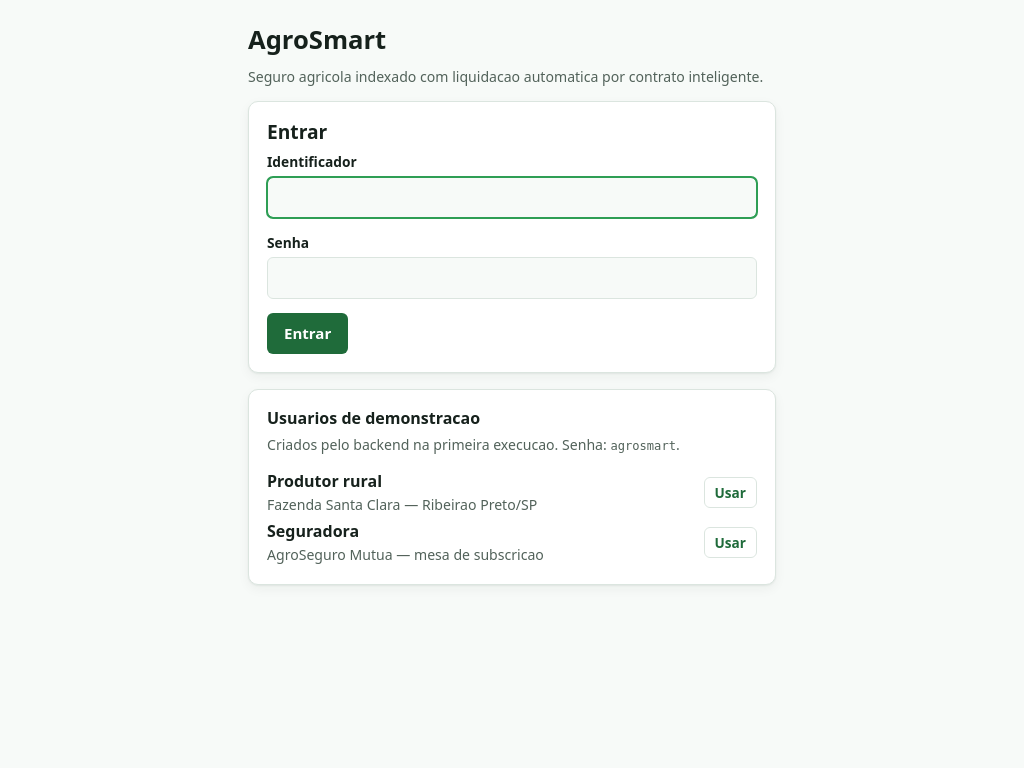
it: autenticacao e perfis › tela comum guardada antes do login continua valendo
Type "produtor" into the field labelled "Identificador" at (512, 197), box [267, 177, 757, 218]
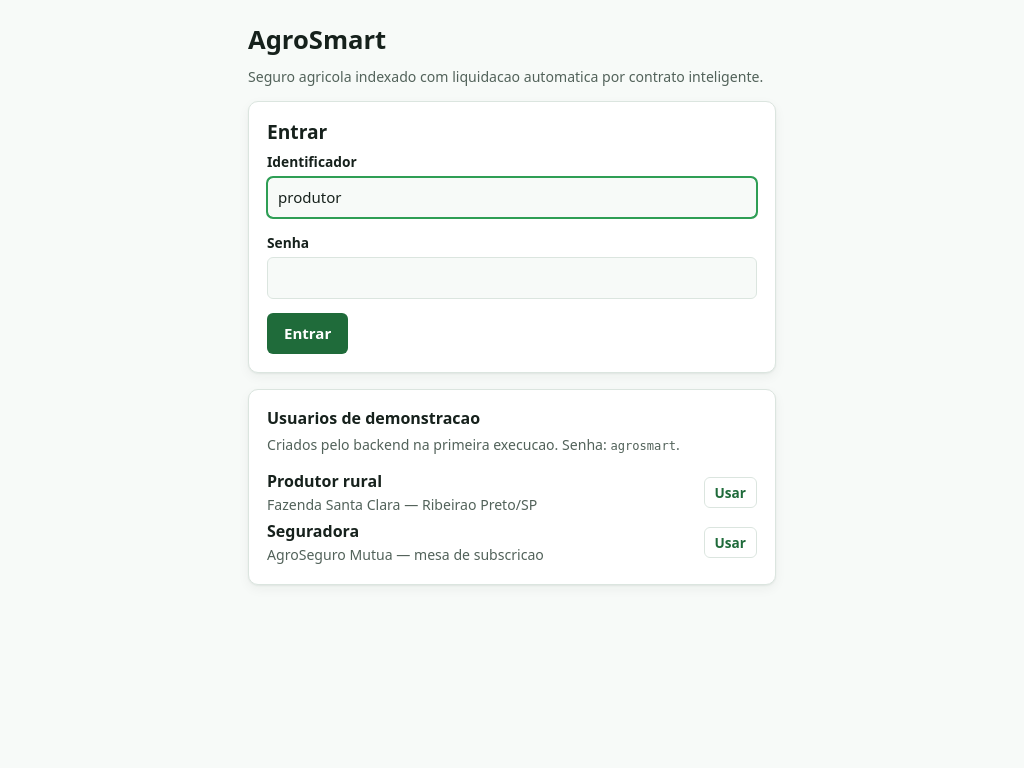
Type "agrosmart" into the password field labelled "Senha" at (512, 278), box [267, 257, 757, 299]
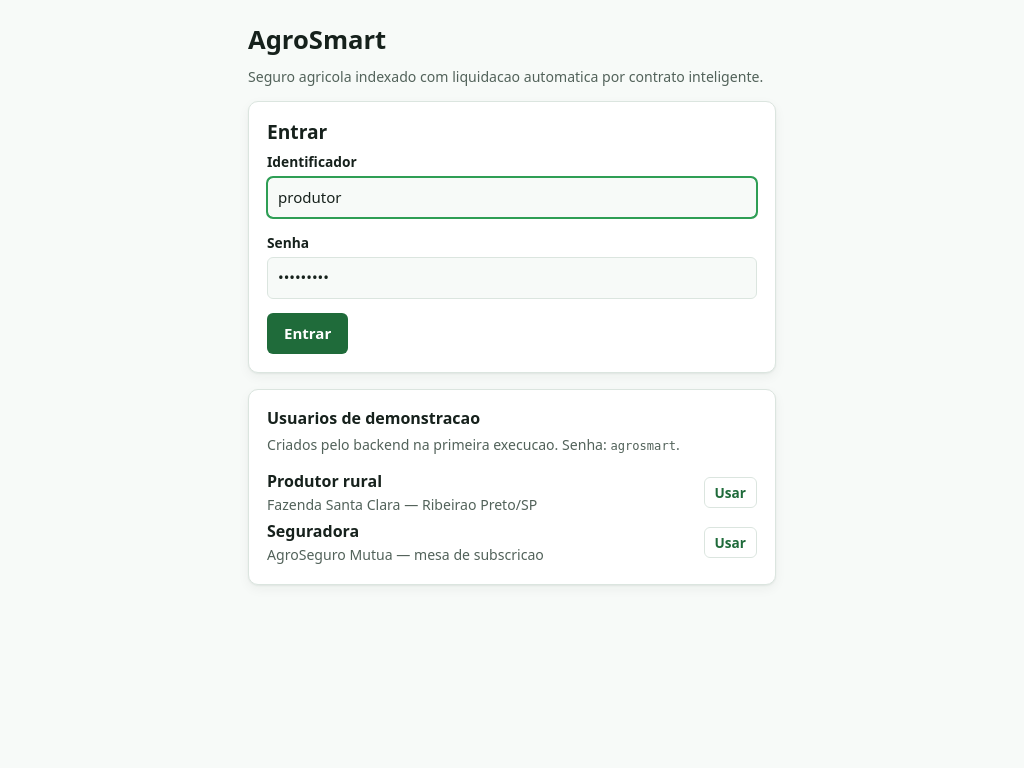
Click the button "Entrar" at (308, 333), box [267, 313, 348, 354]
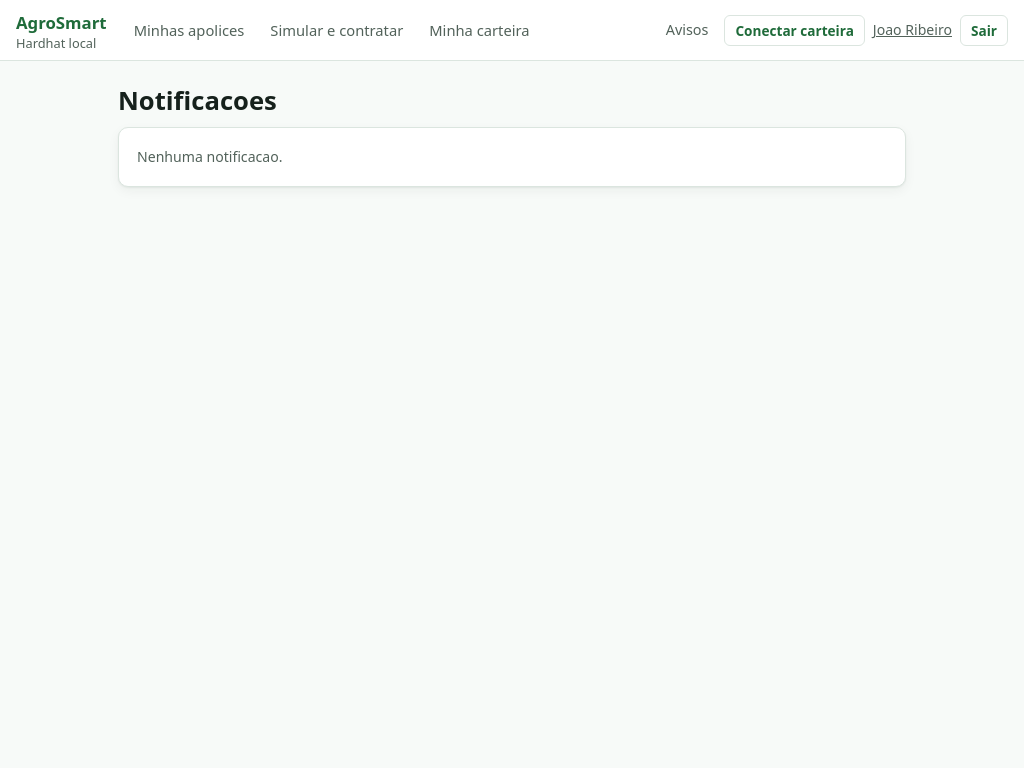
Expected: the text "Nenhuma notificacao." is shown, [137, 147, 282, 166]
